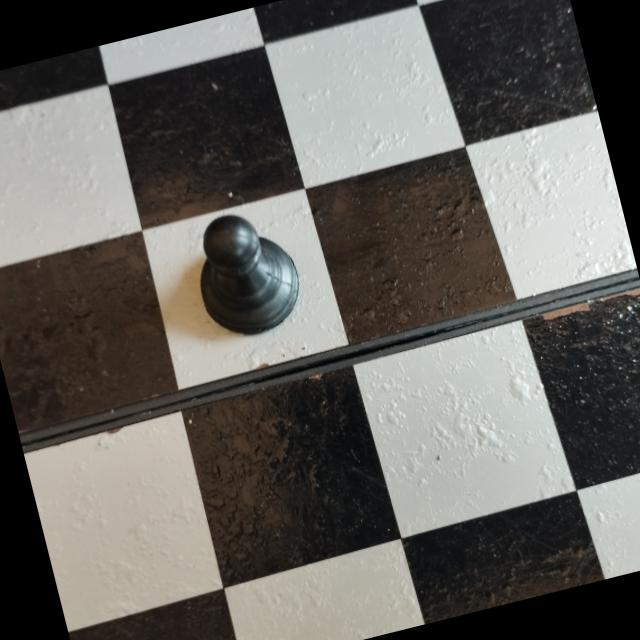Black Pawn: (178, 195, 316, 353)
